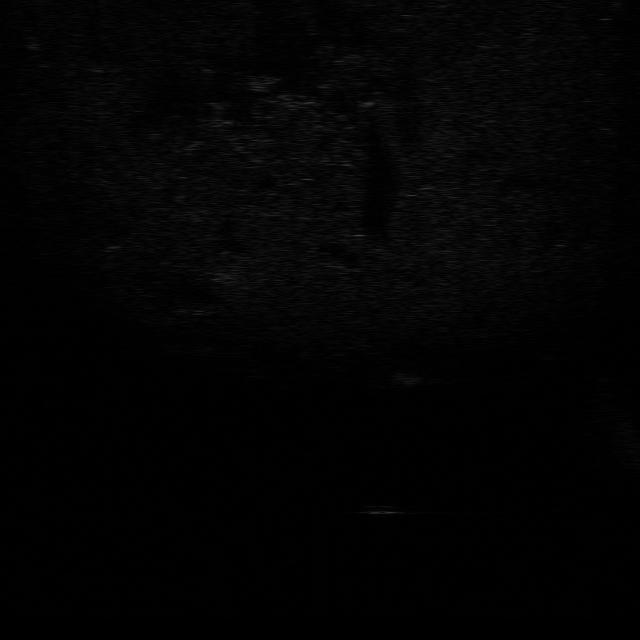cube: (360, 502, 405, 516)
square cage: (388, 366, 427, 386)
